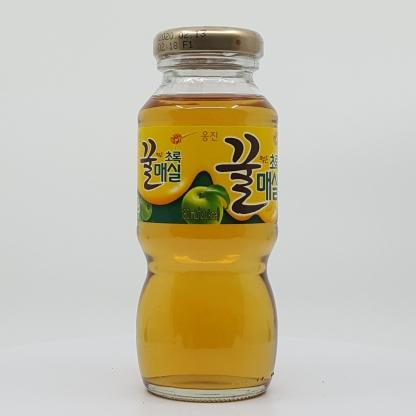-------180ML: (136, 26, 278, 402)
